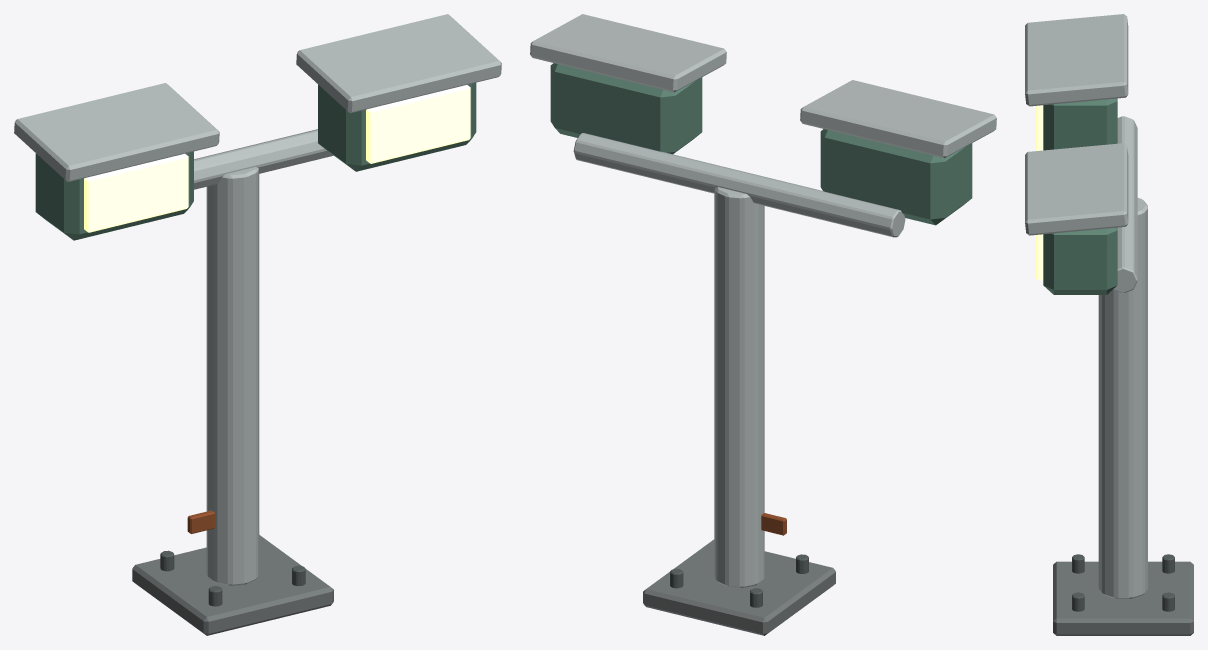
File: runtime.glb
3 renders of one model, left to right at view 1: azimuth 30°, elevation 25°; view 2: azimuth 150°, elevation 25°; view 3: azimuth 270°, elevation 25°, orthographic. The views are drawn at different scales.
Visible parts, largest first — view 1: reactor-maintenance-light-v07_nocol; view 2: reactor-maintenance-light-v07_nocol; view 3: reactor-maintenance-light-v07_nocol.
Boxes of the visible parts, x1,y1,x2,y2 form: reactor-maintenance-light-v07_nocol: (14, 14, 501, 635); reactor-maintenance-light-v07_nocol: (530, 14, 996, 635); reactor-maintenance-light-v07_nocol: (1025, 14, 1193, 635).
Size of the model in its own units: 2.41 by 2.79 by 0.8629.
